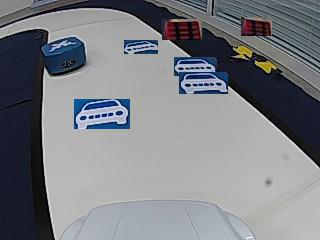spy: (50, 40, 76, 51)
